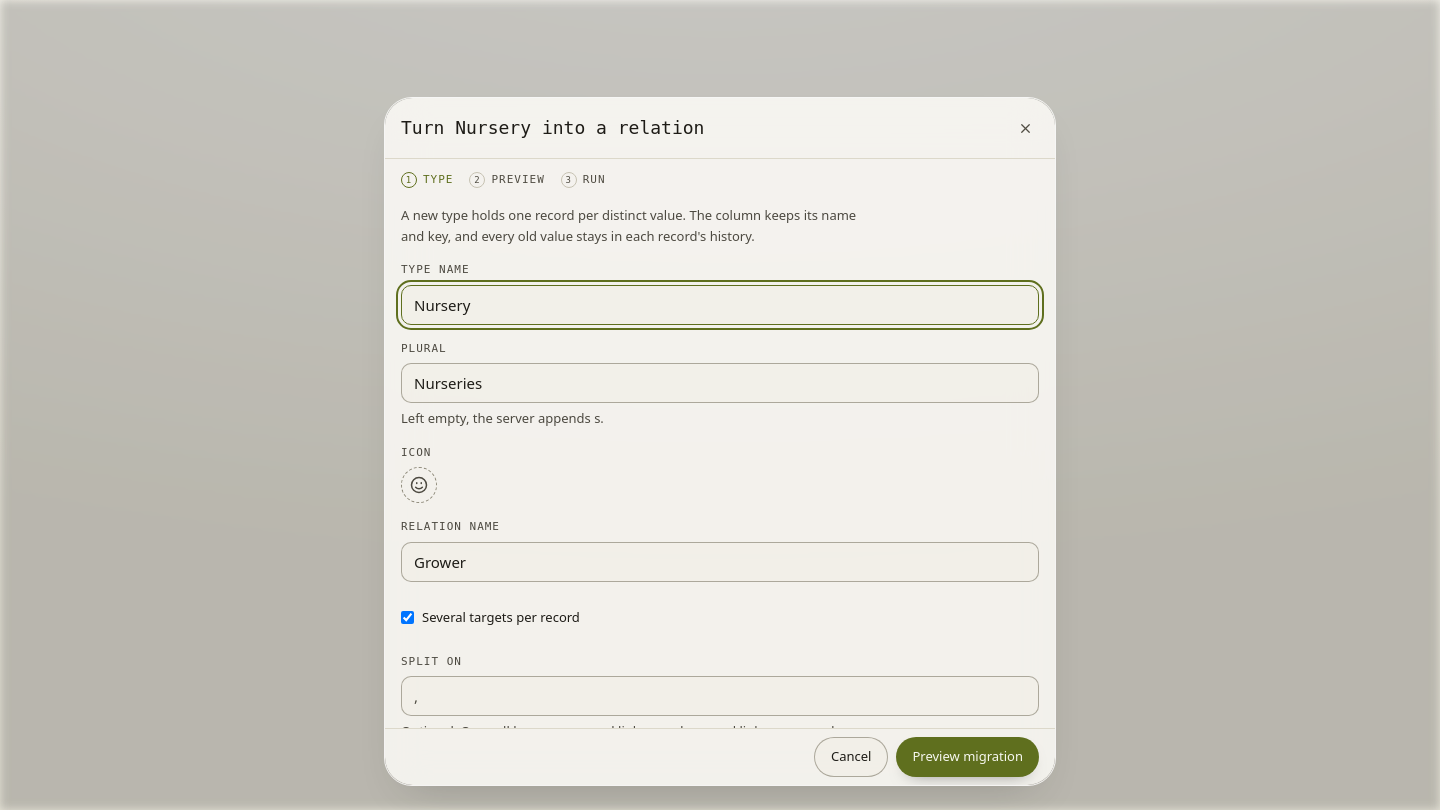
it: PromoteColumnDialog › adopts an existing temporary relation instead of planning a second type
Check: the field labelled "Relation name" holds "Grower", box [401, 542, 1039, 582]
Click the button "Preview migration".
click(968, 757)  # box [896, 737, 1039, 777]
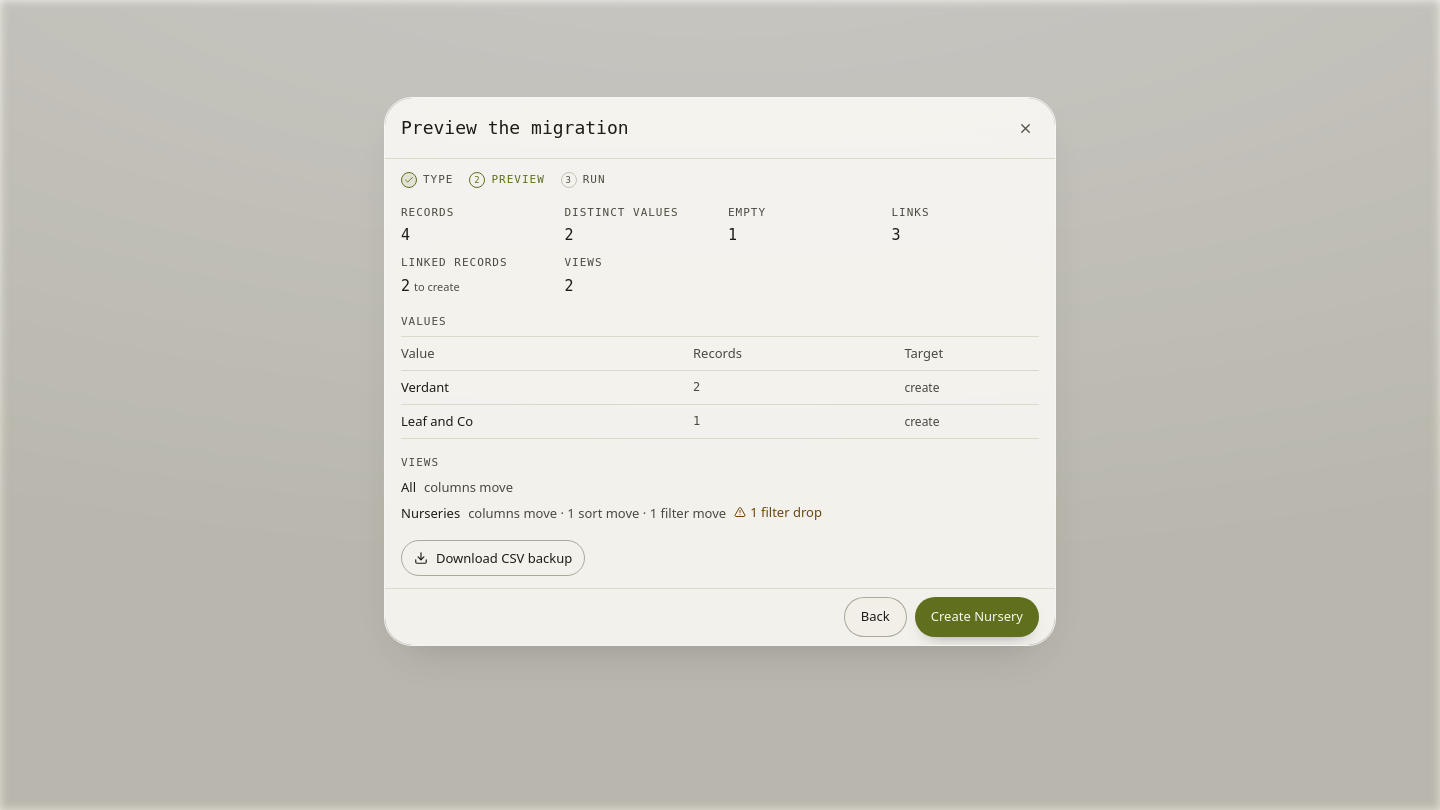
Check: the text "Distinct values" is shown, box [564, 206, 679, 219]
